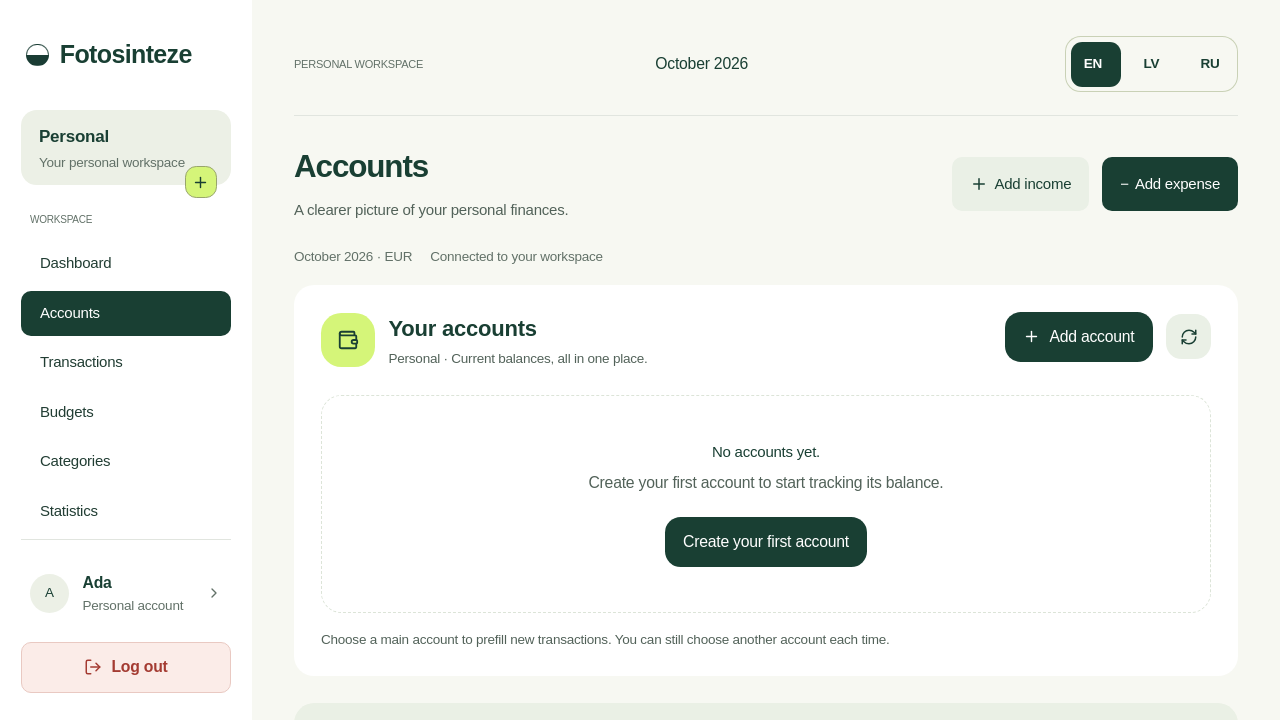
it: shows empty account guidance and prevents a save without an account
Click the button "Add income": [1021, 184] box [952,157,1089,211]
(page scrolled)
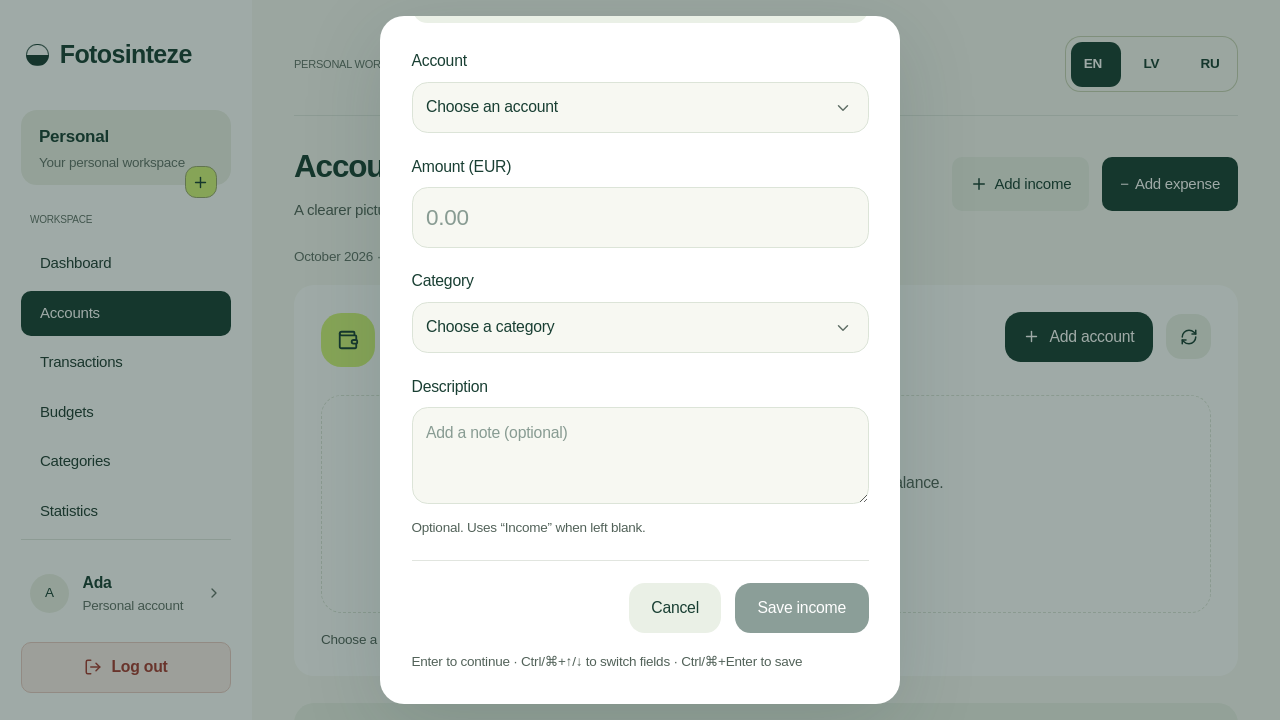
Expected: the button "Save income" is disabled, [735,584,868,633]
